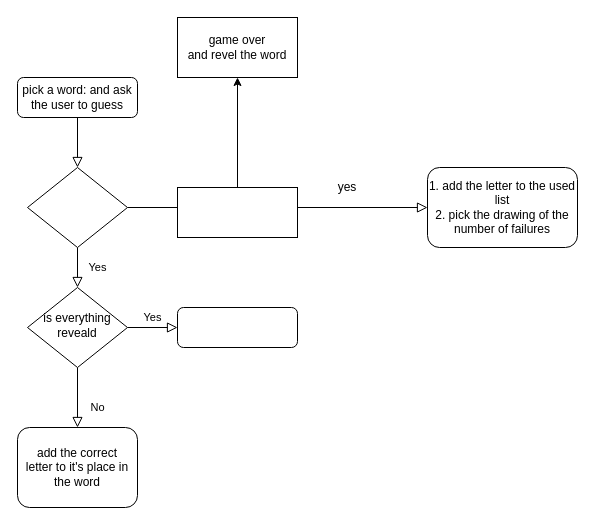
The diagram is 595 pixels wide and 525 high, and some of its shapes have lost their labels. Each missing label, with the centre of its shape:
check for number of failures does it pass the limit: (x=237, y=212)
is the letter in the list?: (x=77, y=207)
user won: (x=237, y=327)
